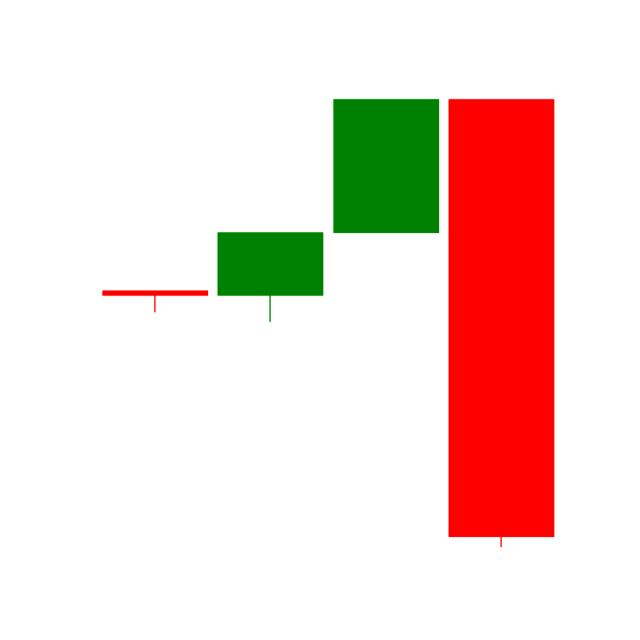Bearish Marubozu: (447, 99, 554, 548)
Bullish Marubozu: (332, 99, 440, 235)
